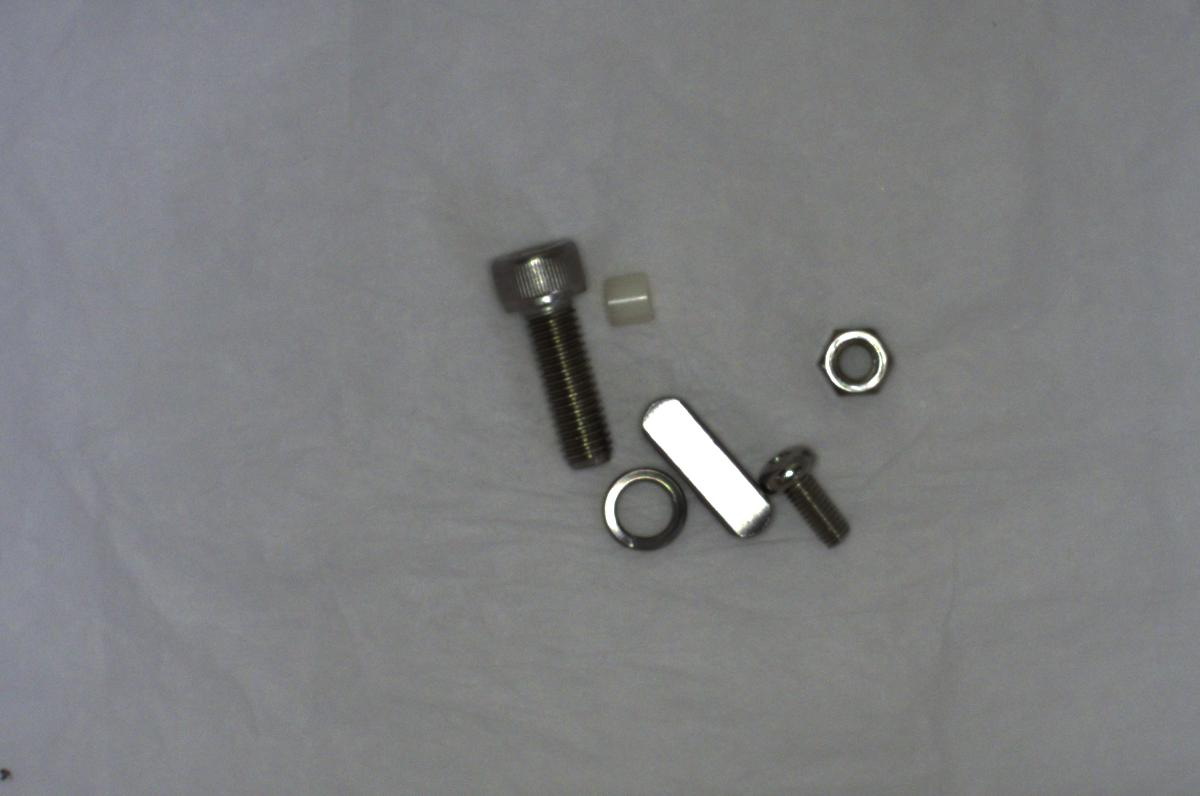Hexagon nut: (816, 315, 892, 403)
Hexagon screw: (485, 231, 619, 474)
Keybar: (637, 390, 782, 549)
Plastic cushion pillar: (588, 262, 661, 337)
Round head screw: (756, 441, 855, 550)
Spring washer: (592, 458, 689, 559)
